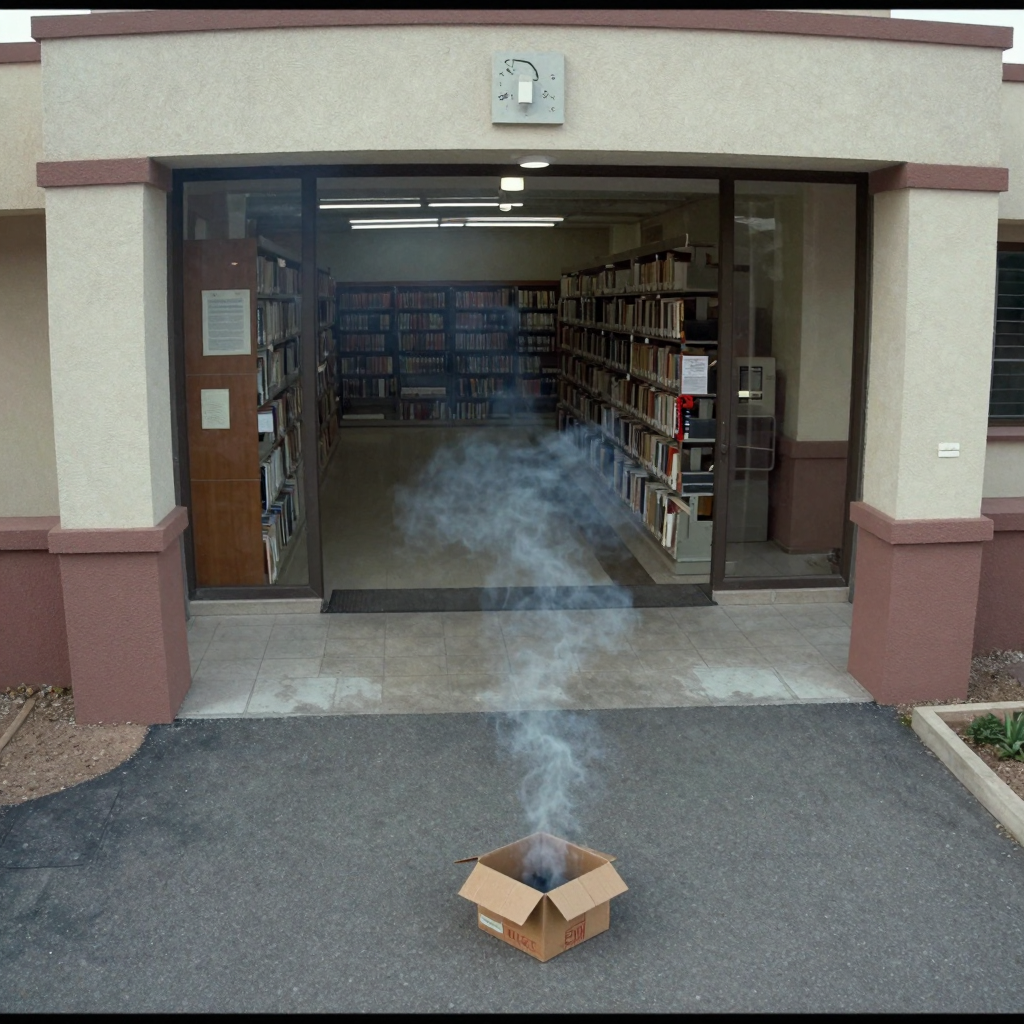Explosion: (435, 398, 611, 878)
